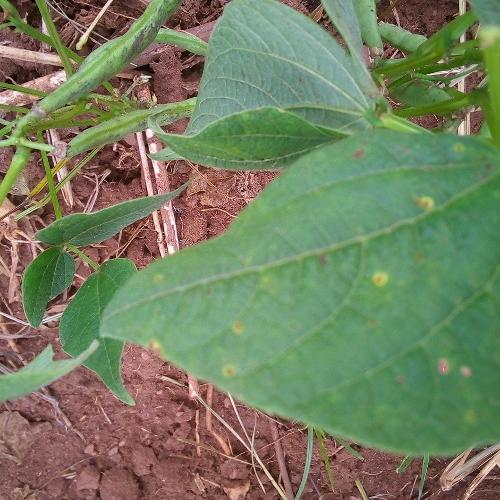mozaik: (245, 182, 500, 393)
